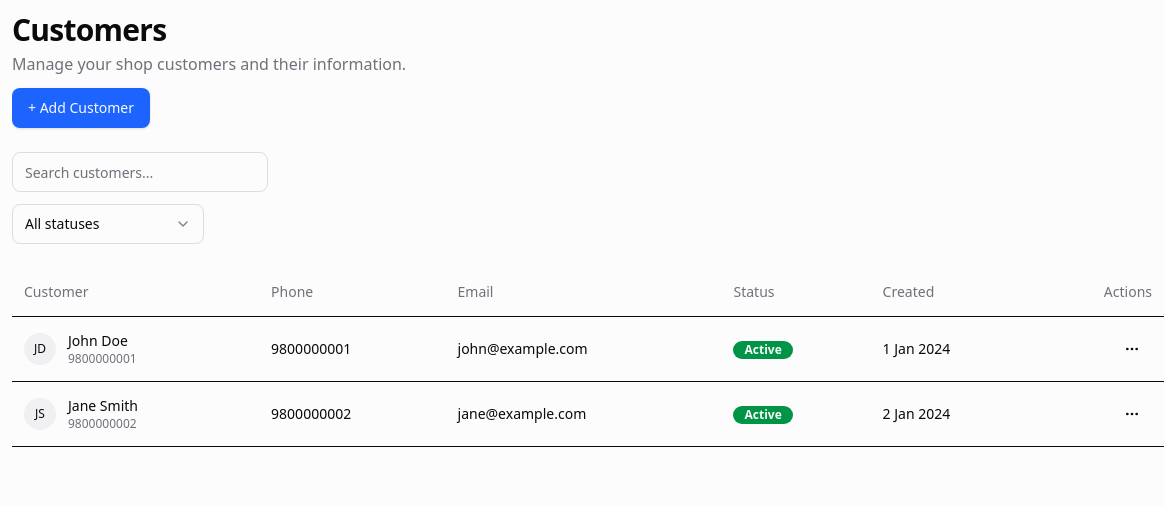
Test: CustomersPage › No-results state shows when filters produce no matches
The width and height of the screenshot is (1164, 506).
Check: the text "John Doe" is shown, box [68,330,137,350]
Click the dropdown at (108, 224), box [12,204,204,244]
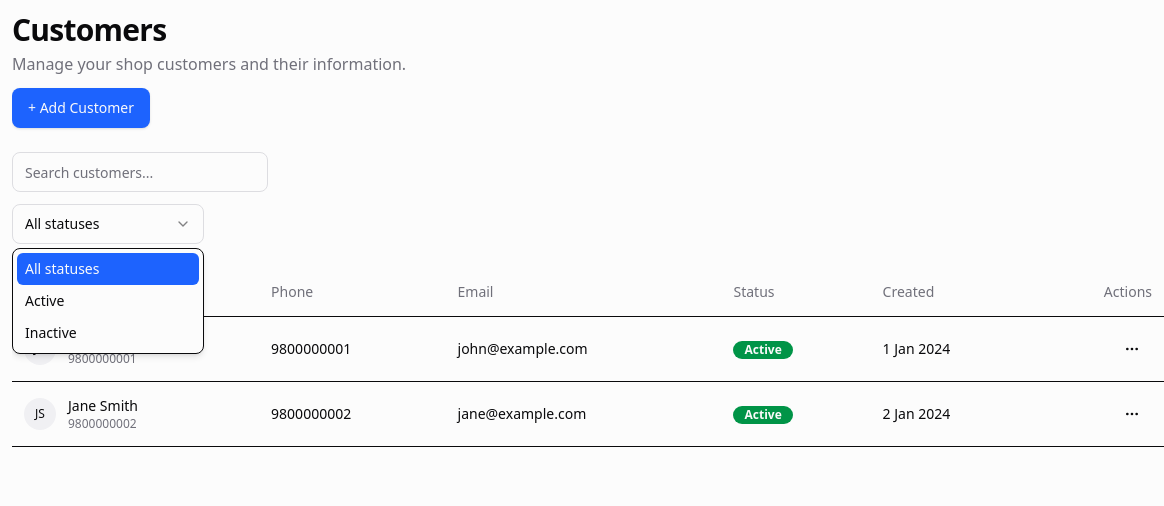
Click the option "Inactive" at (108, 333), box [17,317,199,349]
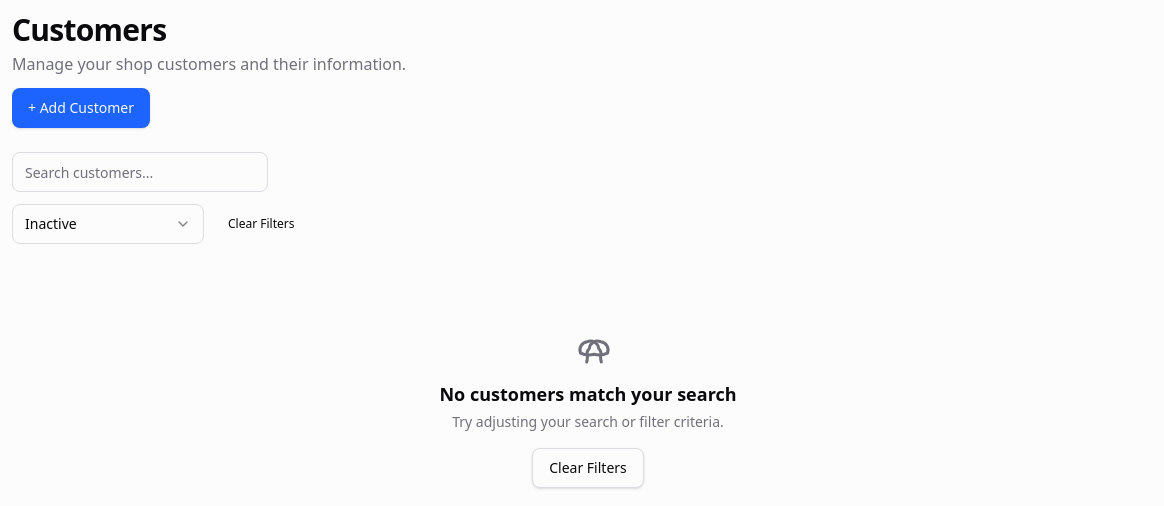
Check: the heading "No customers match your search" is shown, box [440,380,737,408]
